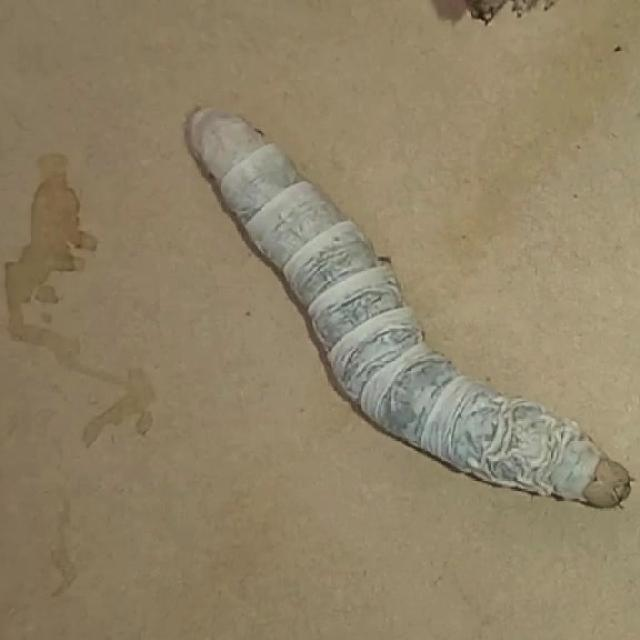Grasserie: (163, 81, 638, 527)
